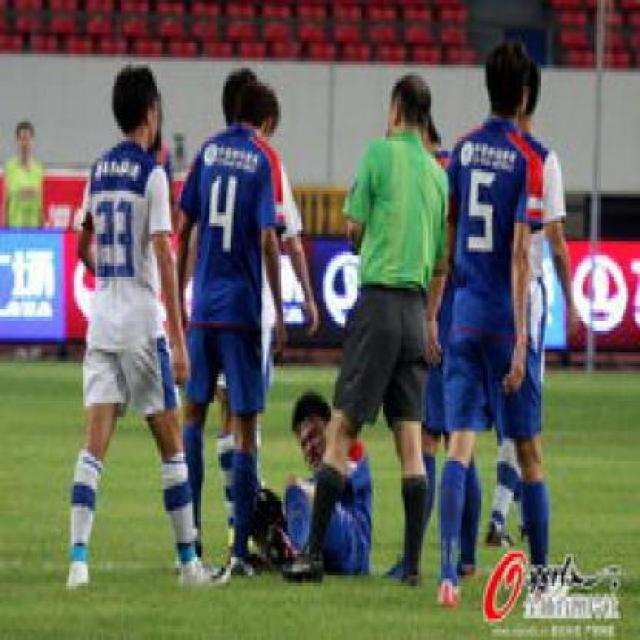fall: (236, 370, 386, 582)
